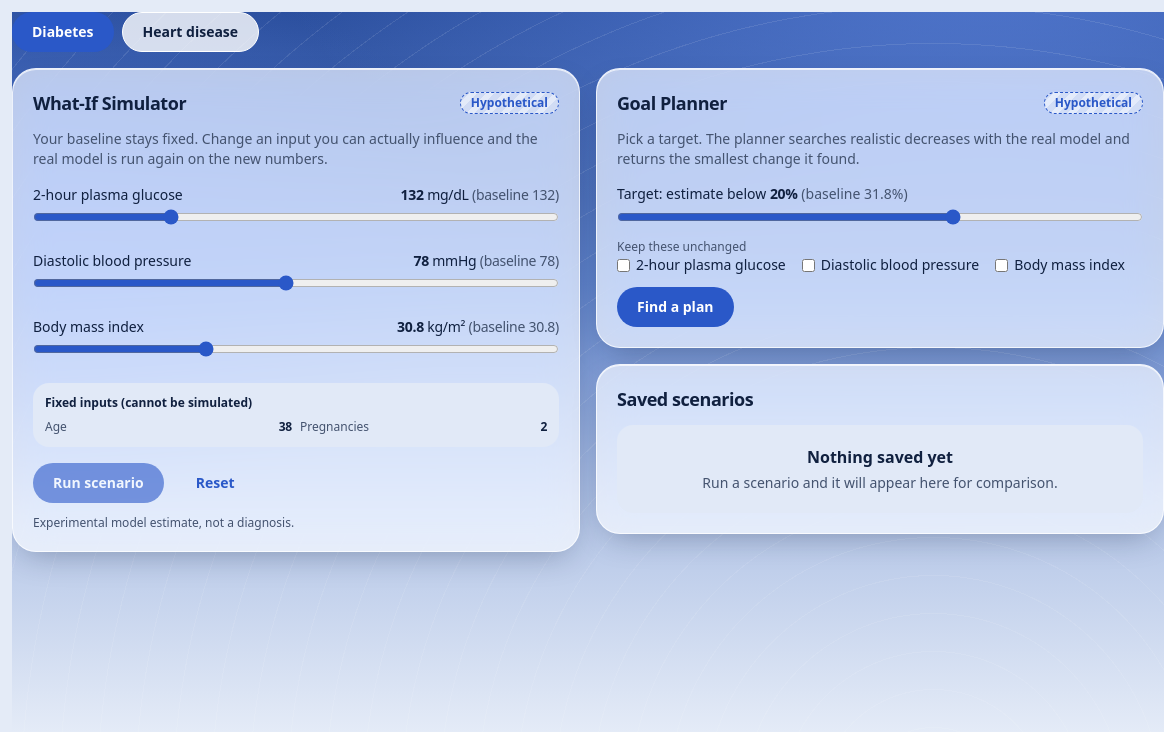
it: SimulatorPage for heart disease › switches to heart, offers only blood pressure and cholesterol, and sends the heart condition
Later steps or results of the test are not shown.
Click the button "Heart disease" at (190,32), box [122, 12, 259, 52]
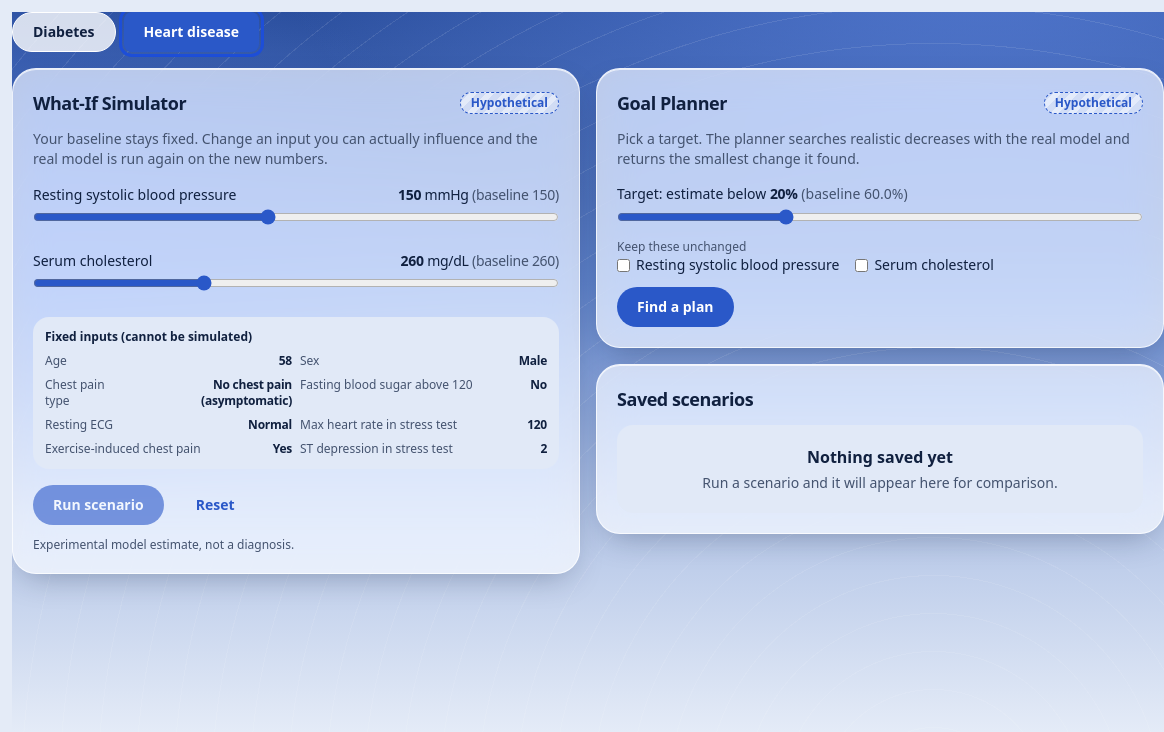
Now the text "Male" is shown, box [519, 353, 547, 369]
